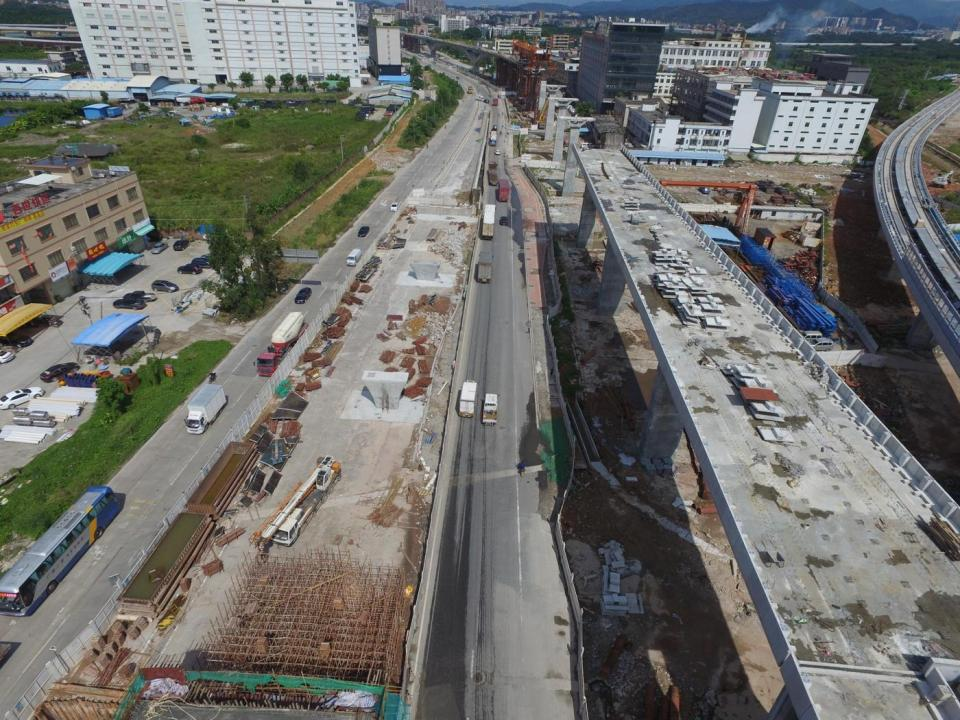bus: (0, 485, 124, 618)
car: (0, 388, 43, 410), (41, 362, 81, 380), (0, 330, 32, 348), (114, 297, 146, 309), (152, 280, 178, 293), (126, 291, 156, 302), (191, 257, 216, 269), (202, 252, 224, 264), (178, 265, 202, 275), (296, 288, 312, 302), (152, 241, 168, 255), (174, 239, 189, 251), (357, 226, 369, 238), (390, 201, 399, 212), (383, 110, 393, 118), (500, 217, 508, 224), (492, 125, 497, 130), (496, 150, 500, 154), (484, 99, 488, 103), (457, 76, 459, 79)
truck: (258, 310, 306, 378), (186, 386, 226, 436), (456, 380, 477, 418), (479, 205, 496, 240), (477, 250, 495, 283), (482, 392, 498, 425), (498, 179, 510, 202), (488, 162, 498, 186), (698, 183, 710, 194), (489, 130, 497, 146), (492, 98, 498, 106), (474, 94, 482, 100), (467, 86, 472, 94)
van: (347, 249, 361, 264), (580, 143, 594, 148)
